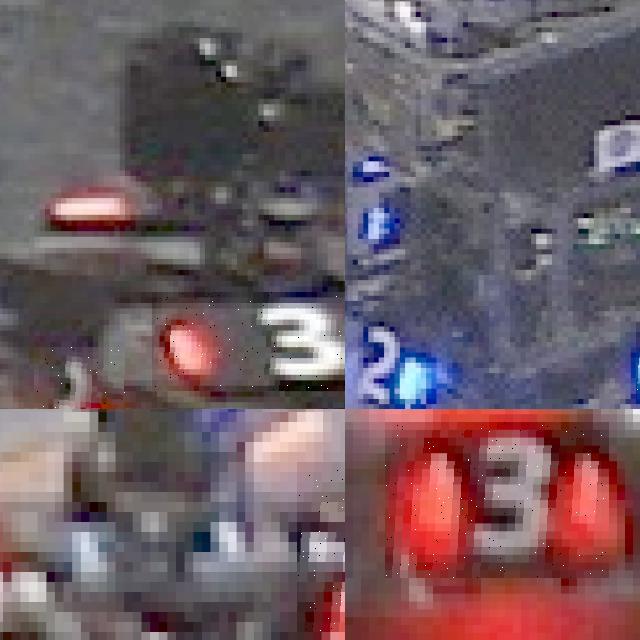R3: (385, 422, 609, 578), (151, 291, 345, 391), (297, 462, 345, 640), (34, 347, 124, 409)
